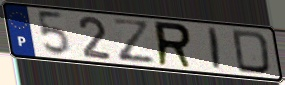2: (77, 15, 115, 62)
5: (34, 9, 73, 59)
D: (230, 28, 273, 77)
I: (208, 26, 223, 72)
R: (153, 19, 196, 70)
Z: (110, 17, 159, 65)
